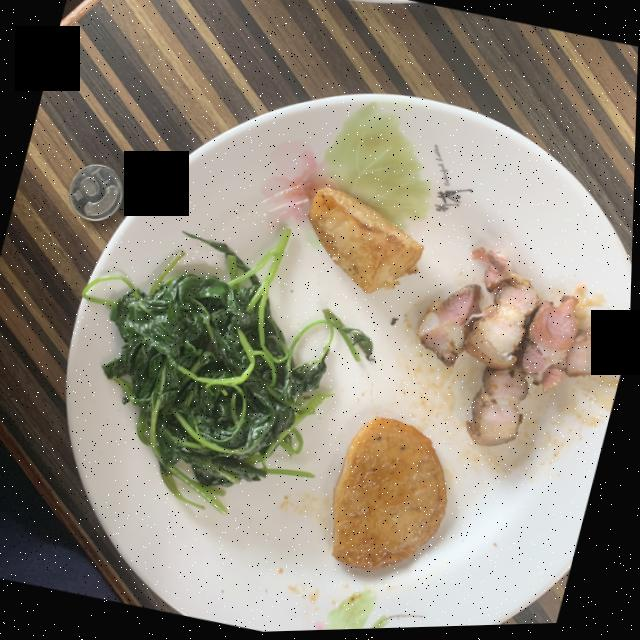coin: (69, 164, 122, 221)
fish cake: (334, 419, 449, 572)
fried potato: (308, 189, 424, 295)
grilled pork: (417, 250, 617, 449)
sweet potato leaves: (83, 231, 373, 515)
